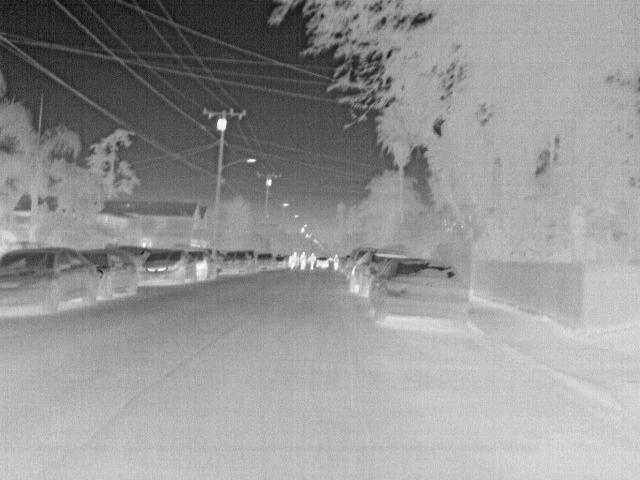car: (367, 259, 470, 326), (2, 246, 98, 313), (78, 249, 139, 298), (350, 252, 415, 296), (140, 248, 196, 286), (345, 248, 376, 278), (187, 251, 219, 280), (220, 249, 254, 274), (255, 252, 277, 272), (273, 254, 288, 270), (314, 256, 329, 268)
person: (306, 251, 318, 271), (289, 251, 299, 271), (299, 250, 307, 270), (332, 253, 340, 271)
